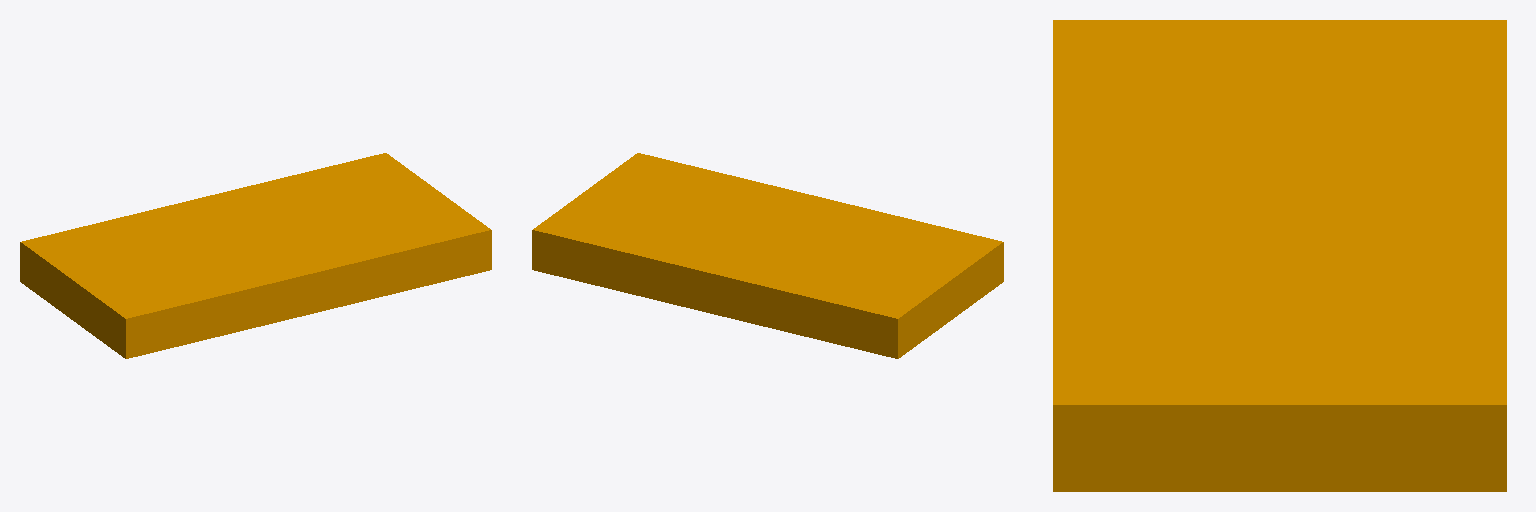
The robot description file, URDF, robot "surface":
<?xml version="1.0"?>
<robot name="surface">
  <link name="base_link">

    <collision>
      <geometry>
        <box size="9.49 4.74 1"/>
      </geometry>
    </collision>

    <inertial>
      <mass value="50"/>
    	<inertia ixx="108" ixy="0" ixz="0" iyy="421" iyz="0" izz="521"/>
  	</inertial>

    <visual>
      <geometry>
        <box size="9.49 4.74 1"/>
      </geometry>
    </visual>

  </link>
</robot>

--- What the picture shows (computed from the rendered views, not written in the file) ---
3 views of the same robot in one strip: view 1: azimuth 30°, elevation 25°; view 2: azimuth 150°, elevation 25°; view 3: azimuth 270°, elevation 25° (orthographic).
Model surface with 1 links and 0 joints (none), rooted at base_link, posed every joint at zero.
Links seen in each view (by area): view 1: base_link; view 2: base_link; view 3: base_link.
Link boxes in pixels (bbox=[...]): base_link: bbox=[20, 153, 491, 358]; base_link: bbox=[532, 153, 1003, 358]; base_link: bbox=[1053, 20, 1506, 491].
Bounding box of the posed robot: 9.49 × 4.74 × 1 m (x, y, z).
Geometry: primitives only (box / cylinder / sphere), no mesh files.